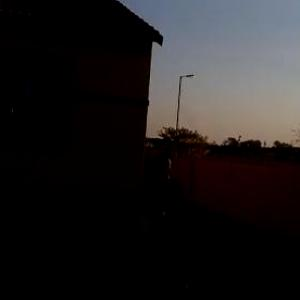follow: (127, 143, 191, 299)
